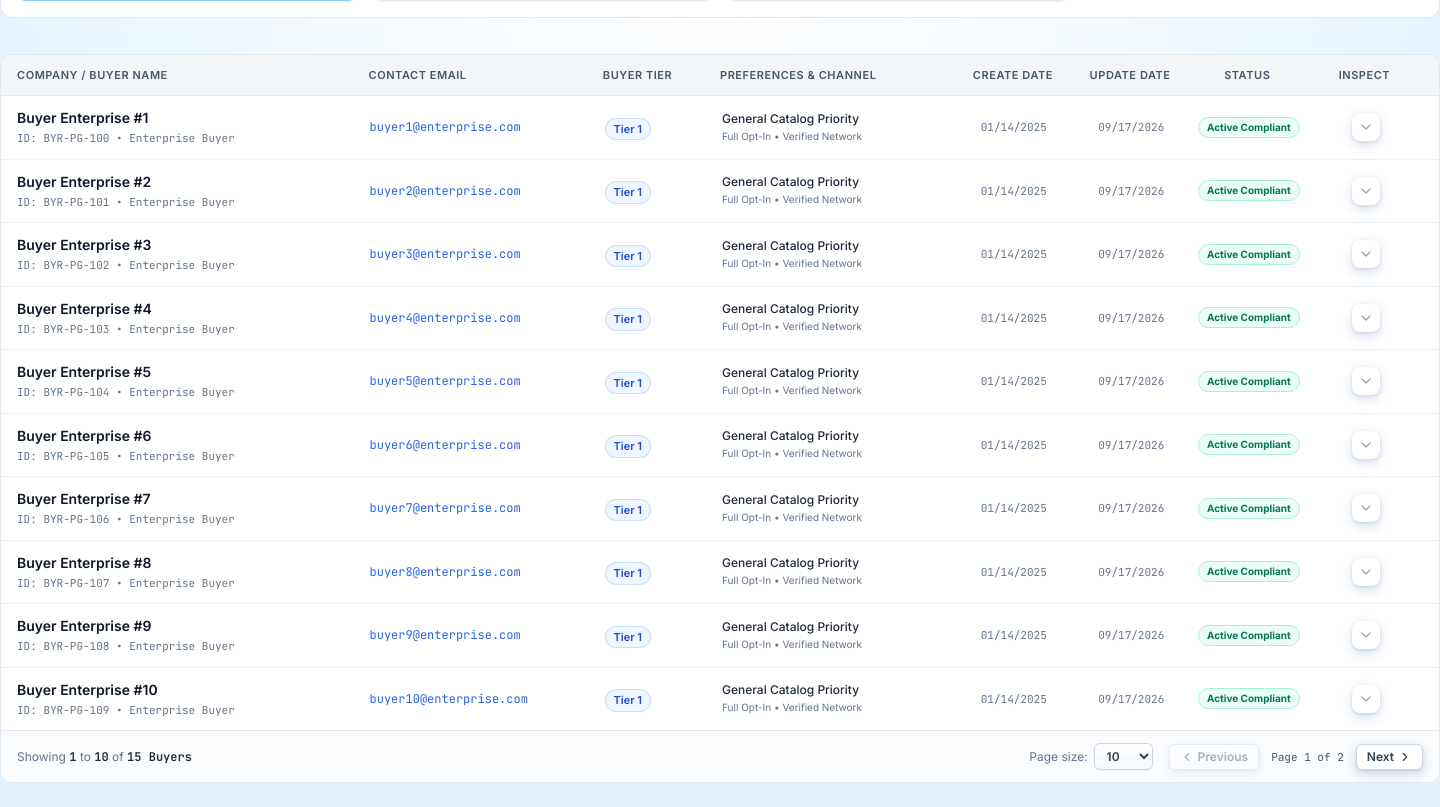
Test case: Issue #0123: Slice 5 - Buyer Pipeline Modern Grid & Progressive Inspection Drawer › 6. Pagination › handles pagination properly when buyer records exceed page size
(page scrolled)
Expected: the text "Buyer Enterprise #1" is shown, [17,109,148,126]
Expected: the text "Buyer Enterprise #10" is shown, [17,680,158,698]
Click the button "Next": [1389, 756] box [1356,744,1423,770]
(page scrolled)
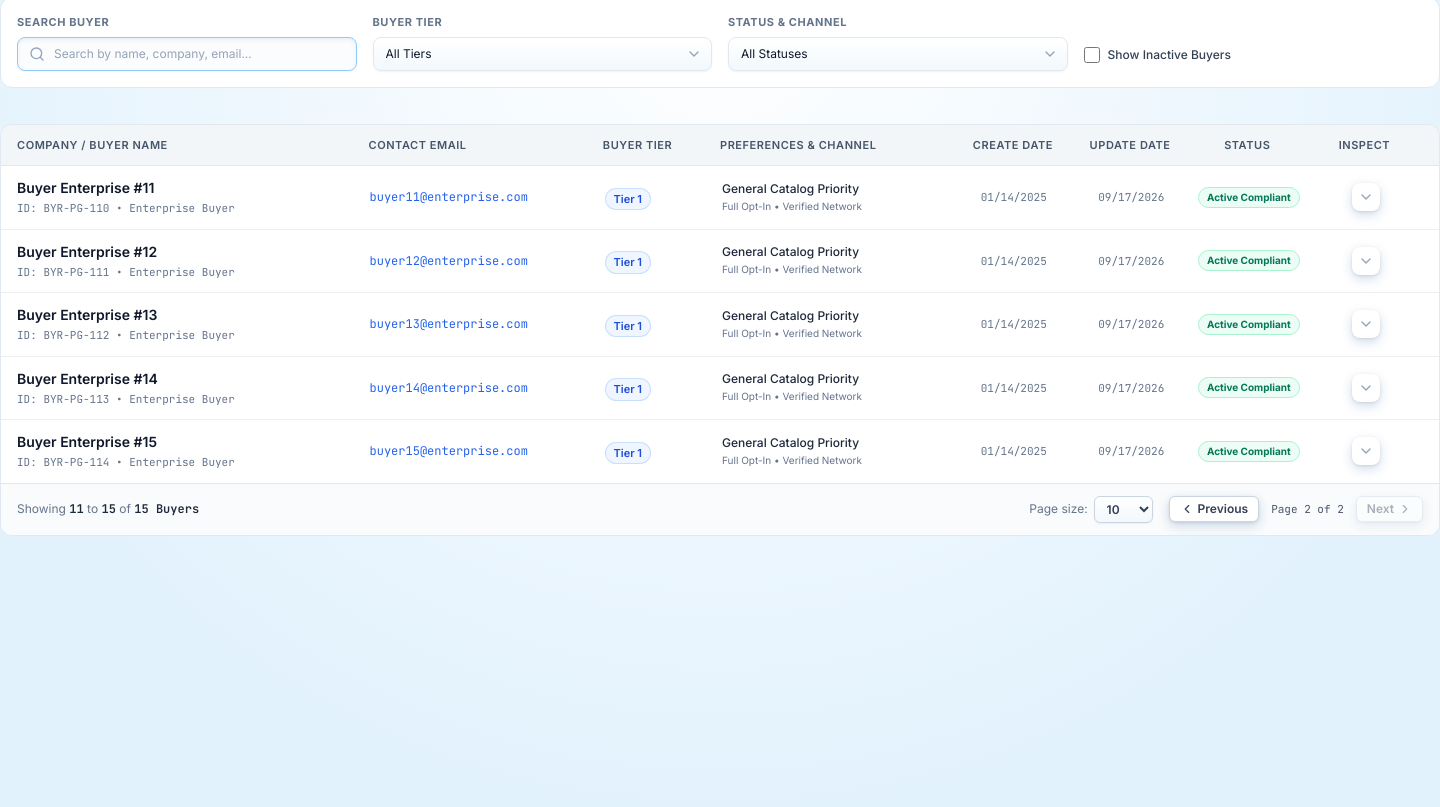
Result: the text "Buyer Enterprise #11" is shown at [17,179,154,196]
